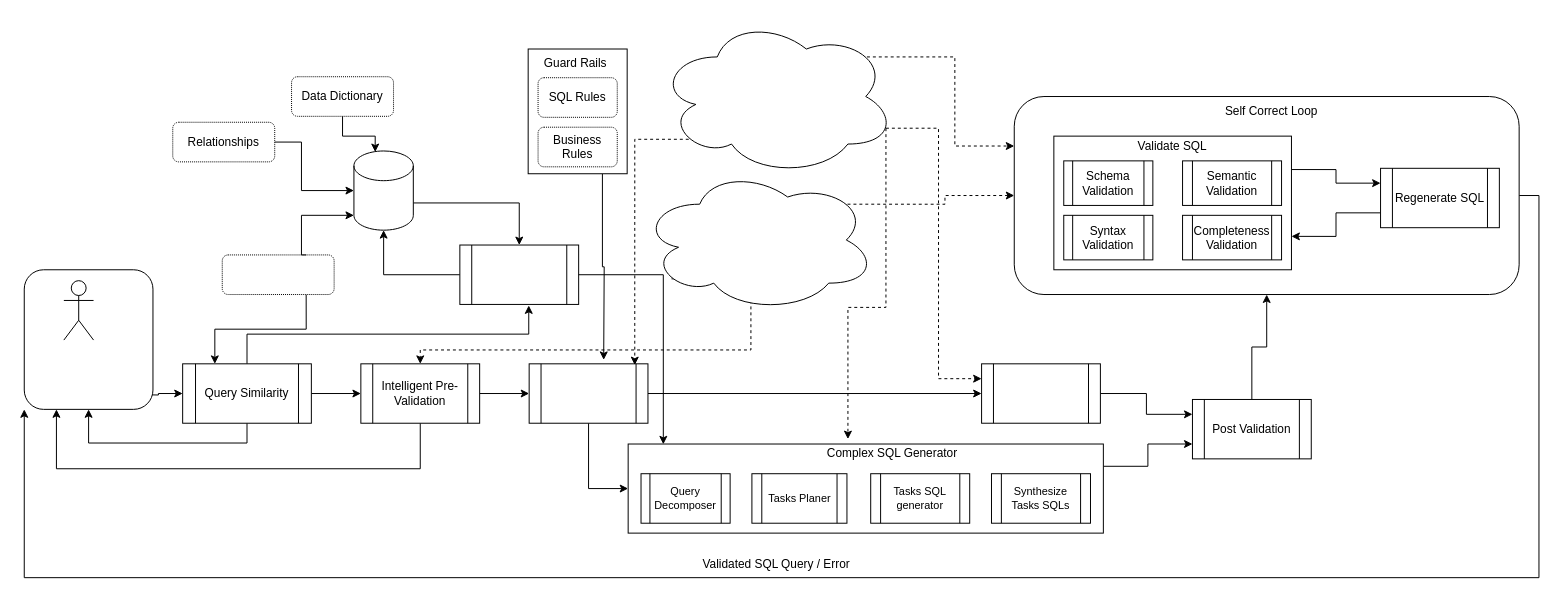
Some shapes in this 1564 by 603 pixel diagram are drawn without their labels. Here are the shapes that lost their labels. From the top down, the centre of each, then its label:
At (x=776, y=96): "LLM-Generator".
At (x=383, y=190): "Vector DB".
At (x=758, y=239): "LLM-Validator".
At (x=277, y=274): "Query History".
At (x=519, y=274): "RAG Agent".
At (x=78, y=310): "Actor".
At (x=588, y=393): "Query Orchestrator".
At (x=1040, y=393): "Simple SQL generator".
